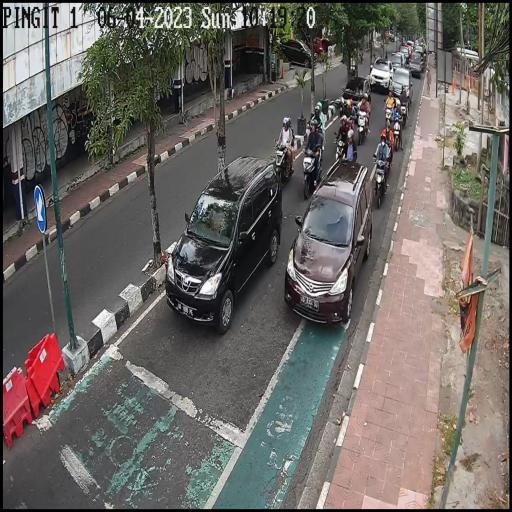mobil: (164, 152, 282, 328), (287, 160, 373, 328), (341, 74, 371, 120), (368, 57, 394, 92), (390, 65, 413, 104)
motor: (371, 152, 392, 207), (301, 148, 323, 197), (272, 142, 296, 183), (333, 132, 348, 165), (356, 108, 369, 146), (392, 116, 404, 152), (383, 100, 394, 130), (399, 99, 410, 129)
